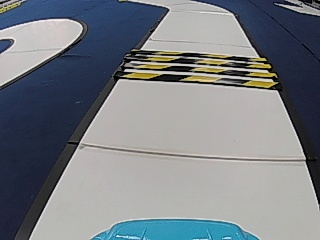bump: (131, 52, 263, 89)
